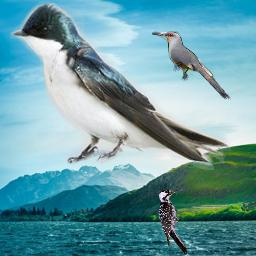Cuckoo: (152, 31, 231, 101)
Swallow: (10, 0, 231, 170)
Woodpecker: (158, 189, 187, 255)
